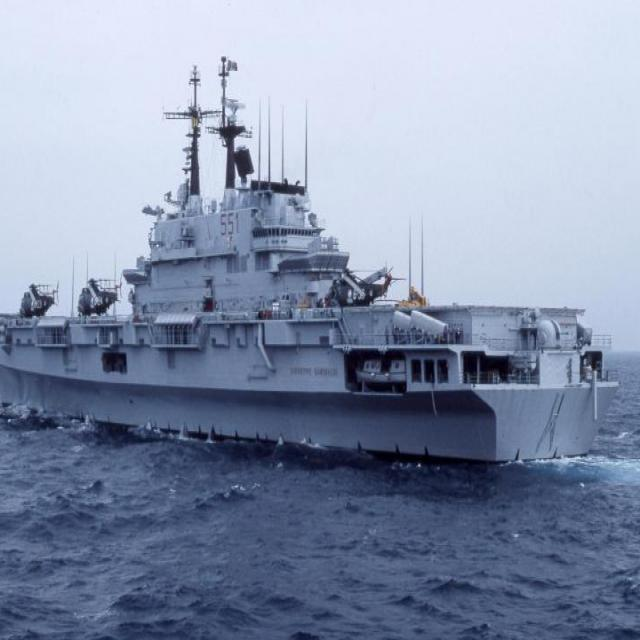Portanaves: (1, 44, 626, 474)
